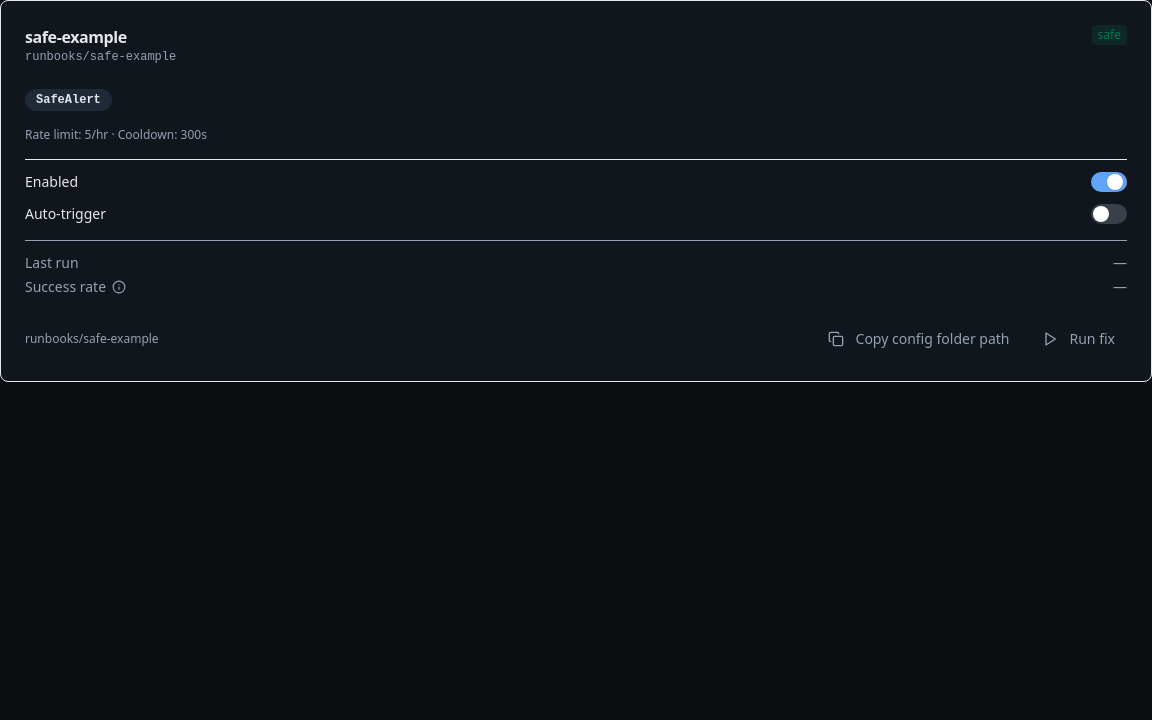
Scenario: RunbookCard › clicking Run fix opens the RunFixDialog
Step 1. Click the button with test id "runbook-run-fix-runbook-safe" → click(1078, 339), box [1030, 321, 1127, 357]
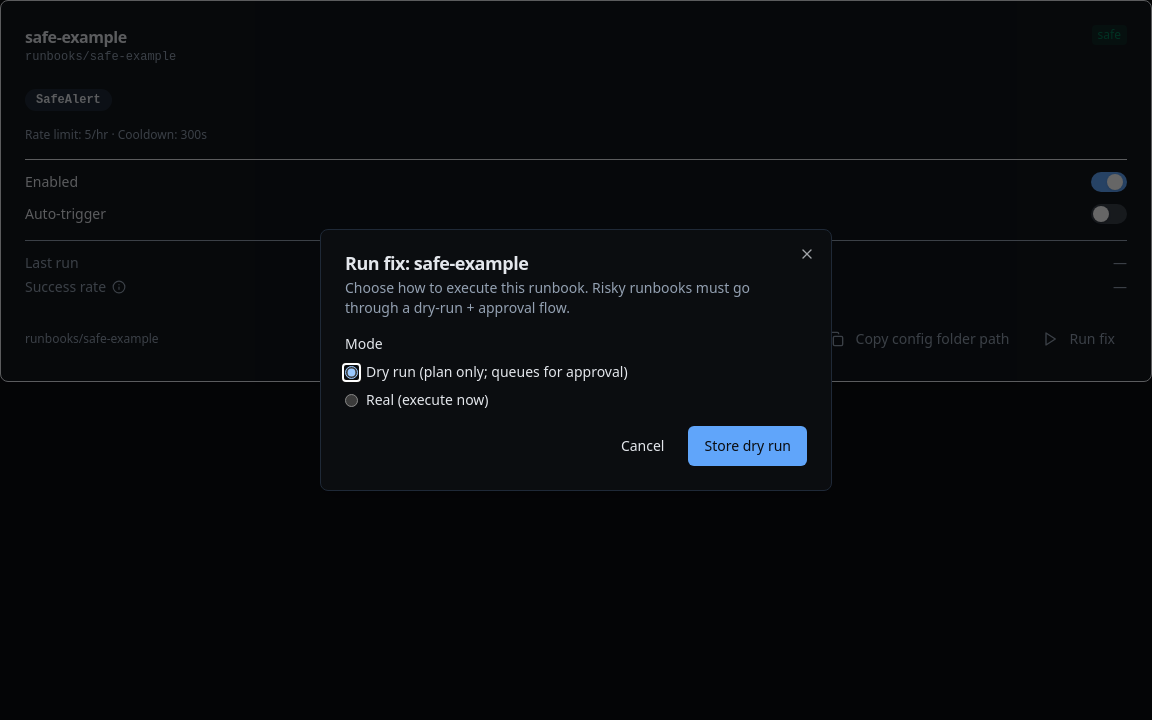
Now the dialog with test id "run-fix-dialog" is shown, box [320, 229, 832, 491]
